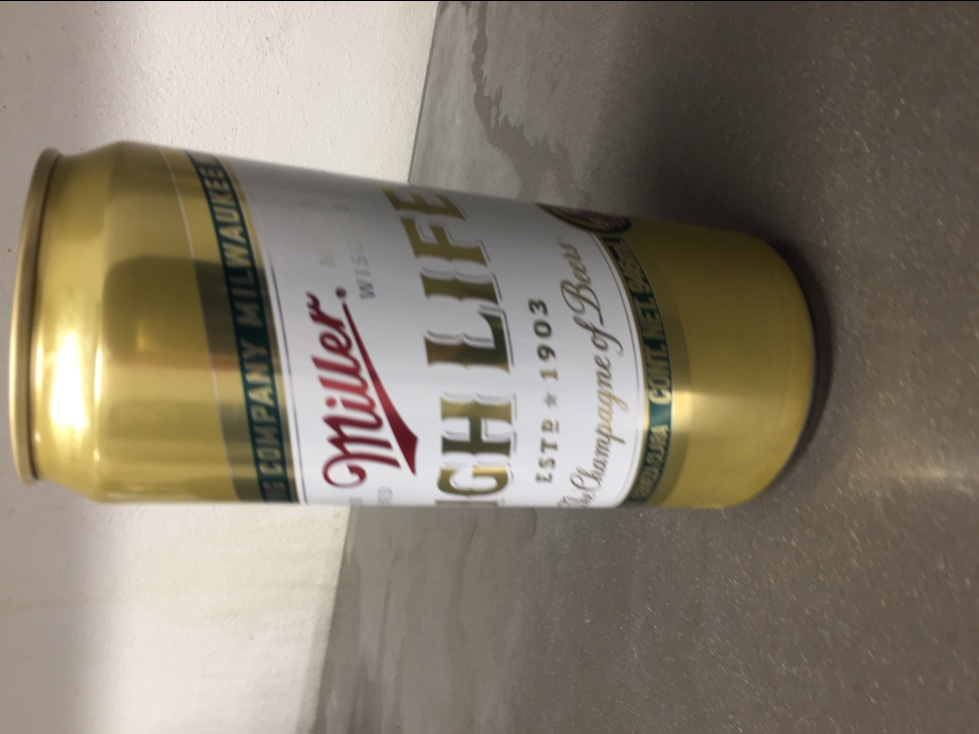miller: (6, 138, 829, 519)
